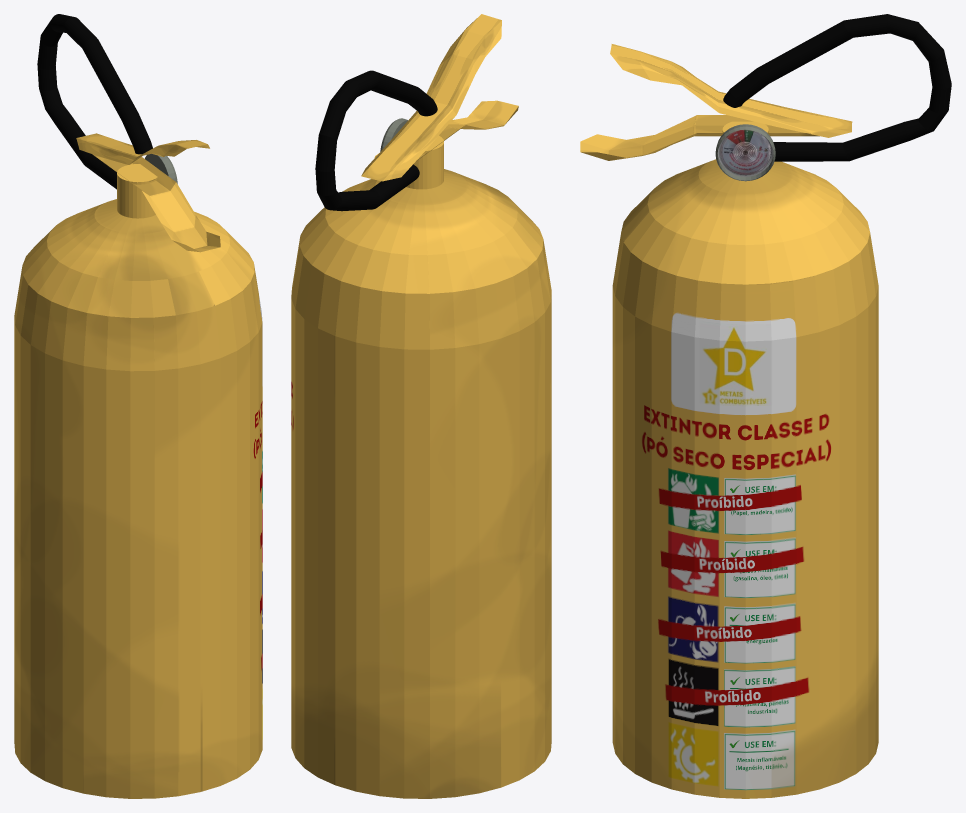
File: ExtintorEspecial.glb
The picture shows the model from 3 angles, left to right: view 1: azimuth 30°, elevation 25°; view 2: azimuth 150°, elevation 25°; view 3: azimuth 270°, elevation 25°; orthographic projection. The views are drawn at different scales.
Parts seen in each view (by area): view 1: Círculo, Cilindro, Plano; view 2: Círculo, Plano, Cilindro; view 3: Círculo, Cilindro, Plano, Círculo.001.
Boxes of the visible parts, x1,y1,x2,y2 form: Círculo: (14, 164, 262, 798); Cilindro: (37, 14, 152, 189); Plano: (76, 133, 220, 252); Círculo: (291, 136, 551, 798); Plano: (361, 14, 518, 181); Cilindro: (315, 70, 437, 211); Círculo: (612, 121, 878, 798); Cilindro: (723, 14, 951, 161); Plano: (580, 44, 852, 160); Círculo.001: (715, 124, 775, 181).
Bounding box in the file's own units: 2 × 6.04 × 2.8.
Materials: 6 (4 with a texture image).
